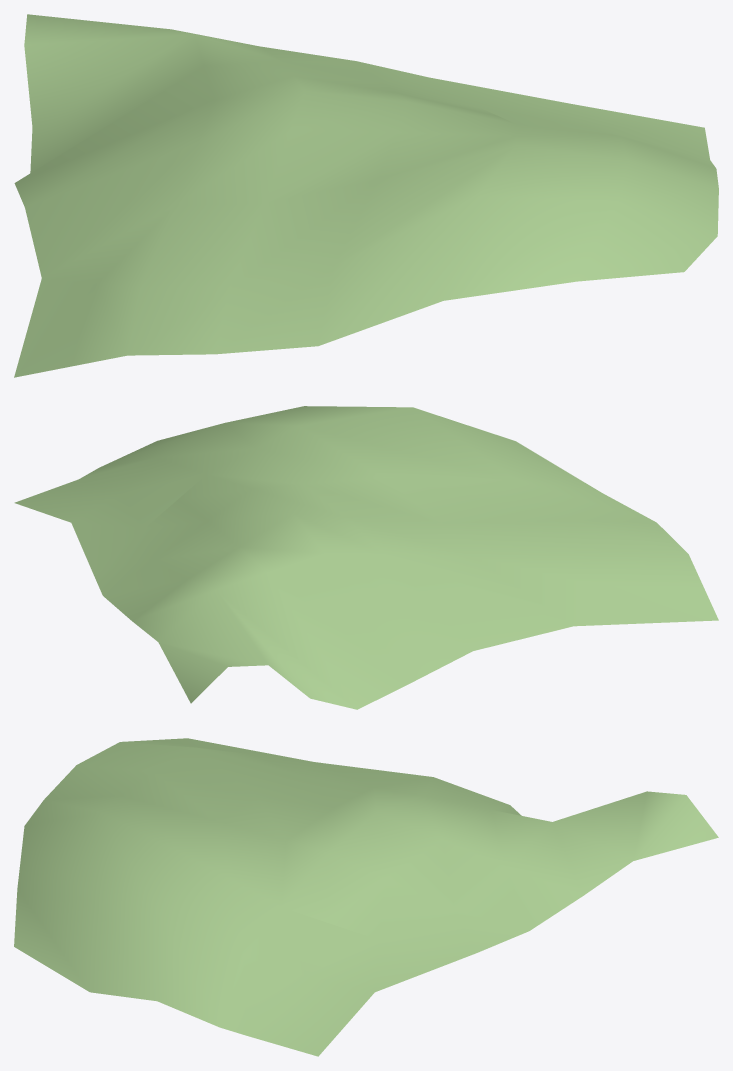
Rendered from level_6.fbx.
The picture shows the model from 3 angles, top to bottom: view 1: azimuth 30°, elevation 25°; view 2: azimuth 150°, elevation 25°; view 3: azimuth 270°, elevation 25°; orthographic projection. The views are drawn at different scales.
Visible parts, largest first — view 1: loc_006; view 2: loc_006; view 3: loc_006.
Part boxes in pixels (x1,y1,x2,y2): loc_006: [14, 14, 718, 377]; loc_006: [14, 406, 718, 709]; loc_006: [14, 738, 718, 1056].
Bounding box in the file's own units: 45.73 × 7.18 × 41.83.
